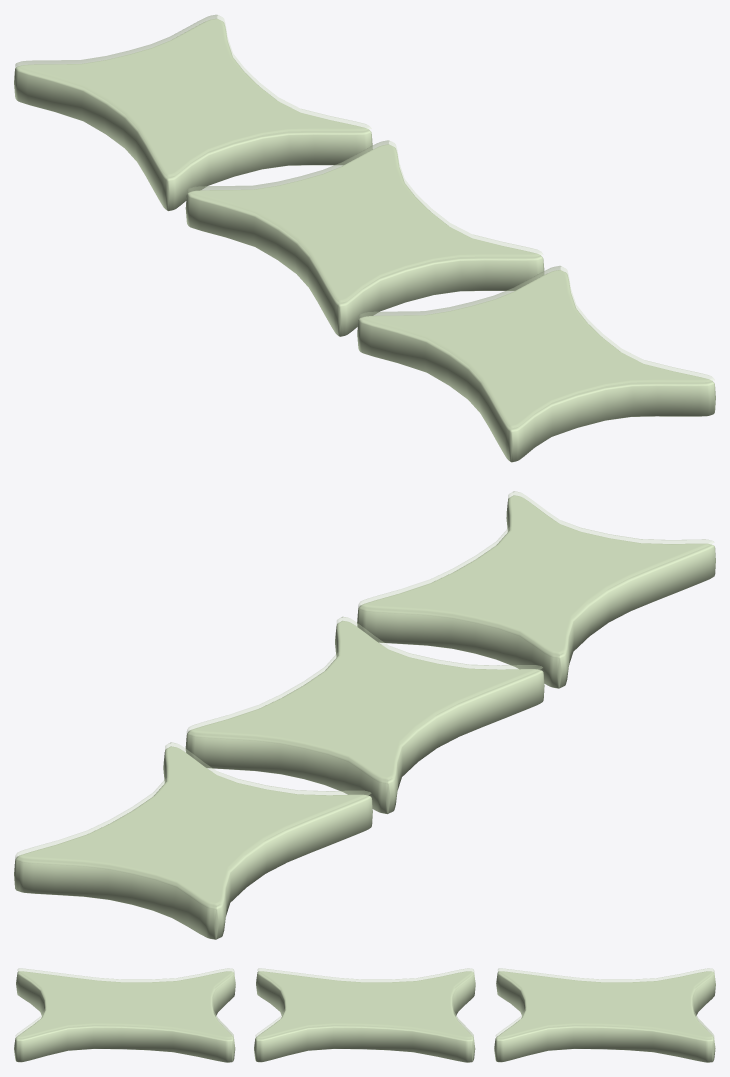
The model's file is Sitoplasma.glb.
The picture shows the model from 3 angles, top to bottom: view 1: azimuth 30°, elevation 25°; view 2: azimuth 150°, elevation 25°; view 3: azimuth 270°, elevation 25°; orthographic projection. The views are drawn at different scales.
Parts seen in each view (by area): view 1: Cube.1556, Cube.2033, Cube.004, Cube.007, Cube.2034, Cube.1557; view 2: Cube.2033, Cube.004, Cube.1556, Cube.1557, Cube.2034, Cube.007; view 3: Cube.2033, Cube.1556, Cube.004, Cube.1557, Cube.007, Cube.2034.
Part boxes in pixels (<box>): Cube.1556: <box>357,270,715,462</box>; Cube.2033: <box>14,18,372,211</box>; Cube.004: <box>185,144,544,336</box>; Cube.007: <box>187,140,542,303</box>; Cube.2034: <box>15,14,371,177</box>; Cube.1557: <box>358,266,714,428</box>; Cube.2033: <box>14,746,372,939</box>; Cube.004: <box>185,621,544,814</box>; Cube.1556: <box>357,495,715,688</box>; Cube.1557: <box>358,491,714,658</box>; Cube.2034: <box>15,742,371,909</box>; Cube.007: <box>187,616,542,783</box>; Cube.2033: <box>494,971,715,1062</box>; Cube.1556: <box>14,971,235,1062</box>; Cube.004: <box>254,971,475,1062</box>; Cube.1557: <box>15,968,234,1039</box>; Cube.007: <box>255,968,474,1039</box>; Cube.2034: <box>495,968,714,1039</box>.
Bounding box in the file's own units: 1.93 × 0.3193 × 8.05.
